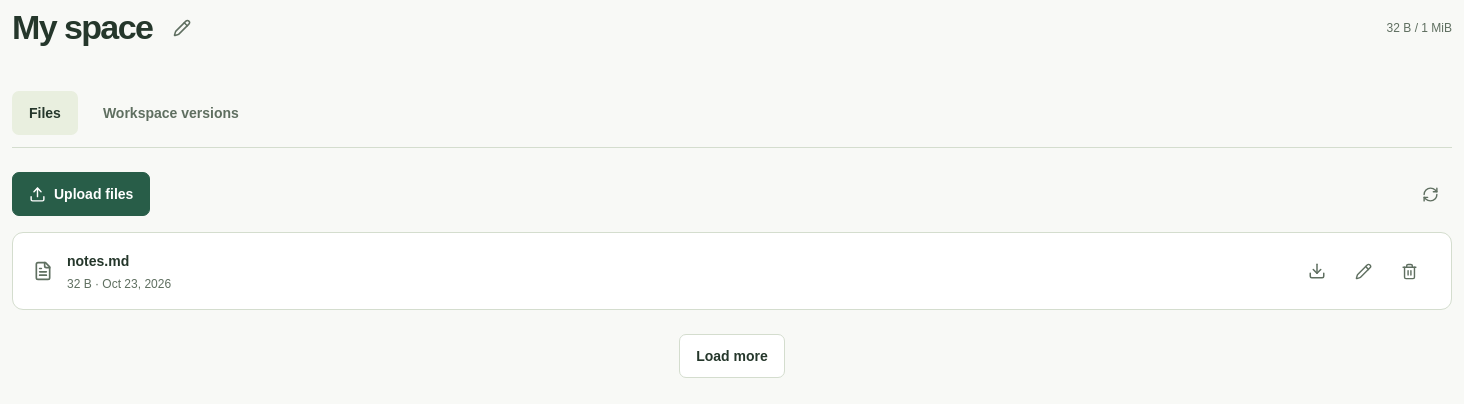
Test case: space user journeys › loads the next page only on request and retains already visible files
Click the button "Load more" at (732, 356), box [679,334,785,378]
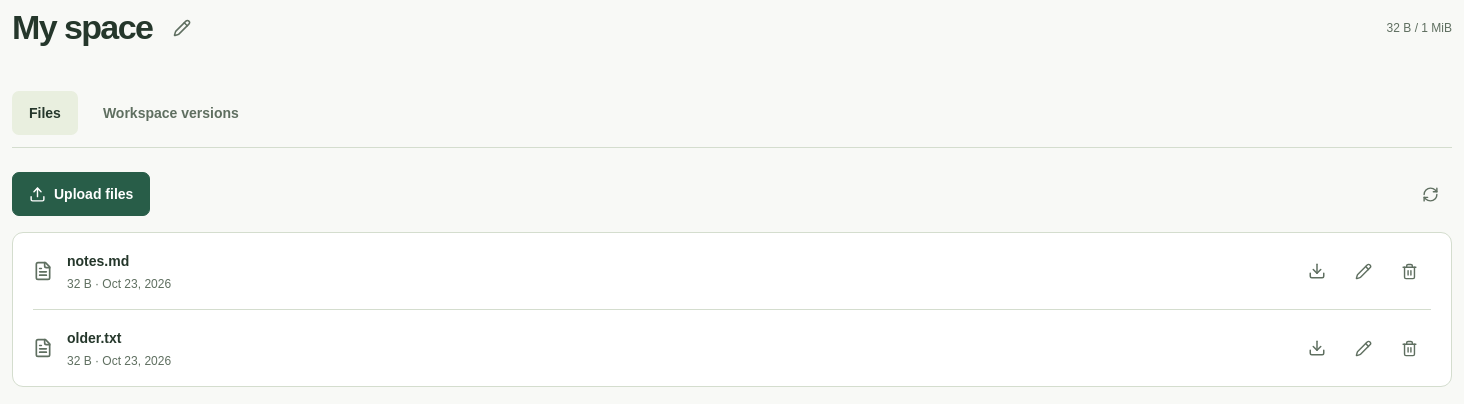
Check: the text "notes.md" is shown, box [67,253,129,269]
Check: the text "older.txt" is shown, box [67,330,122,346]
Check: the button "Load more" is gone
